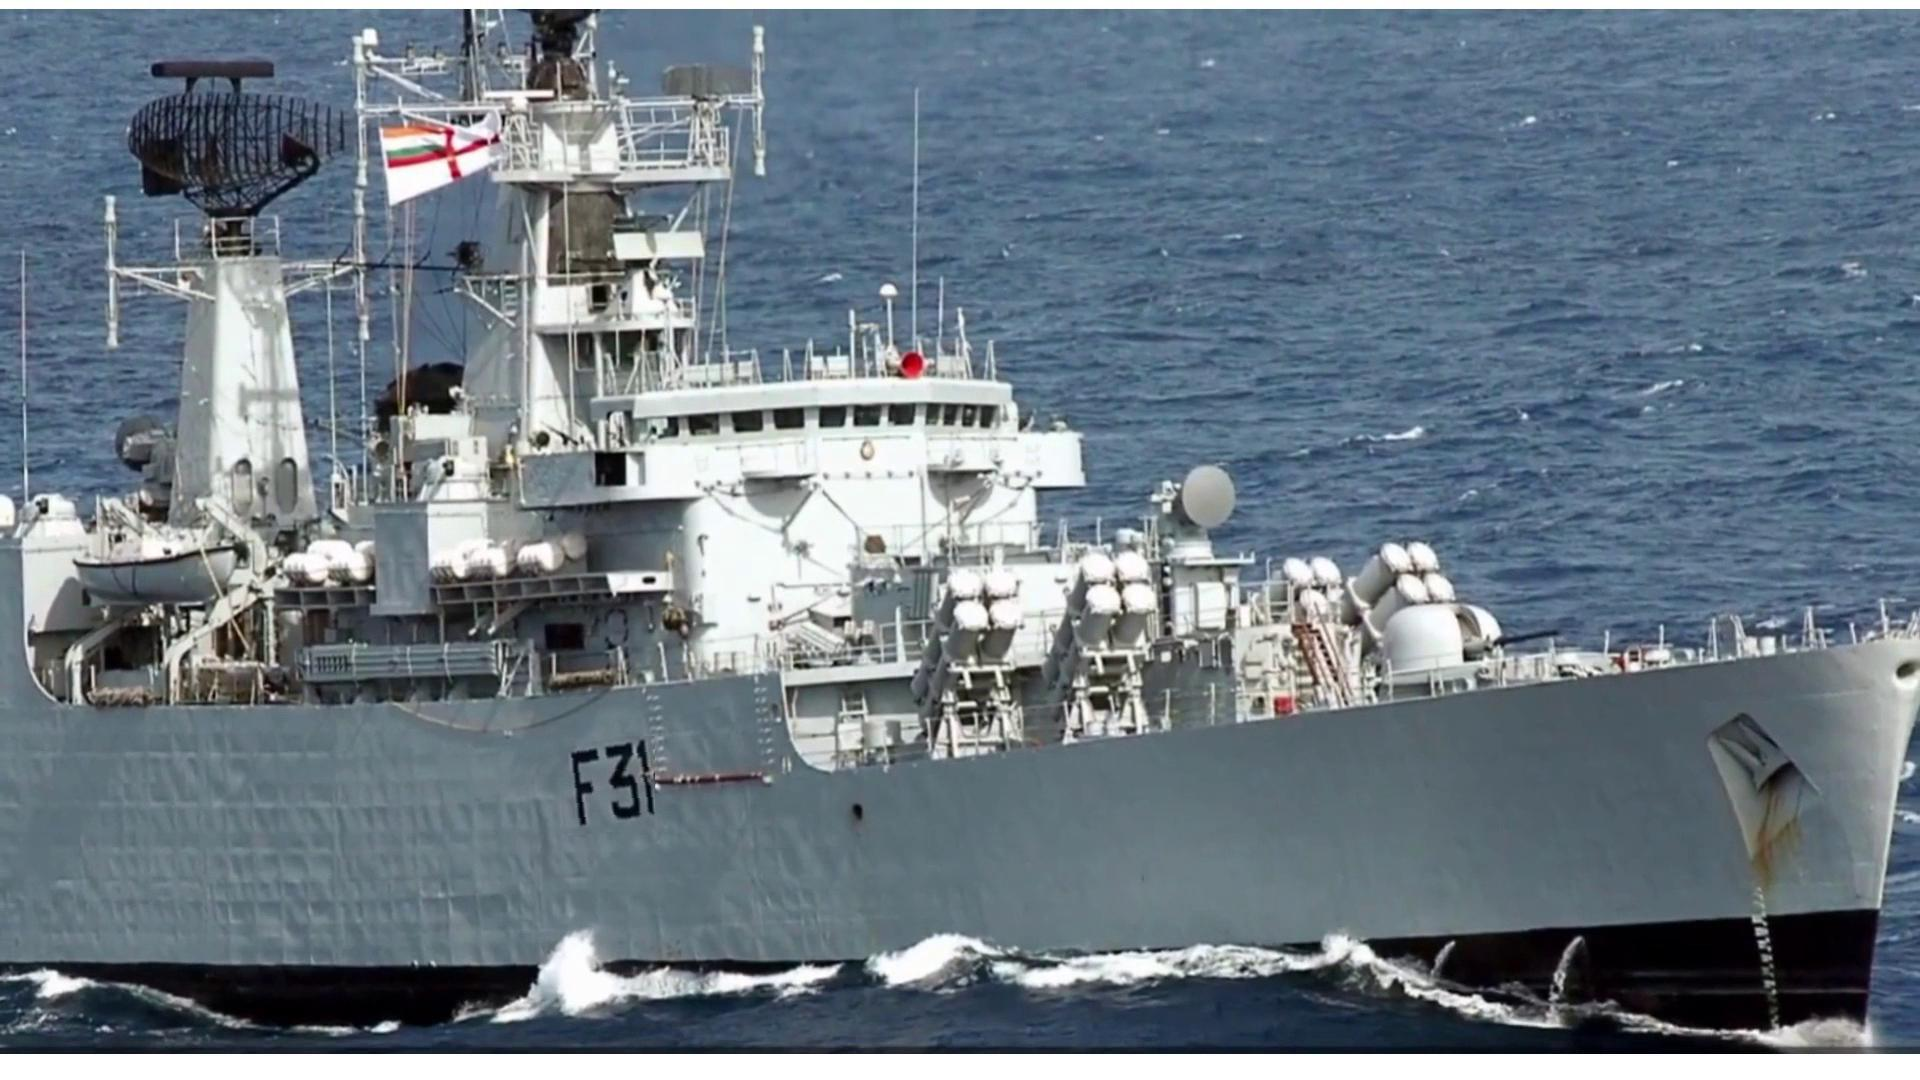OCR: (558, 737, 655, 836)
